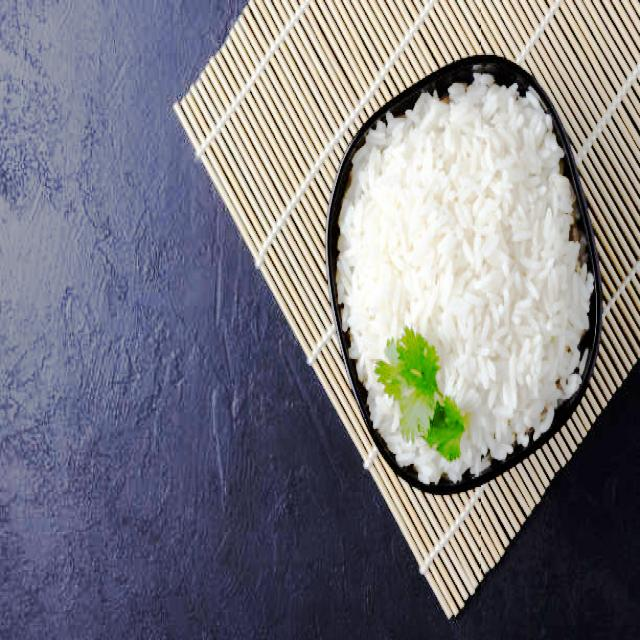rice: (337, 70, 594, 484)
